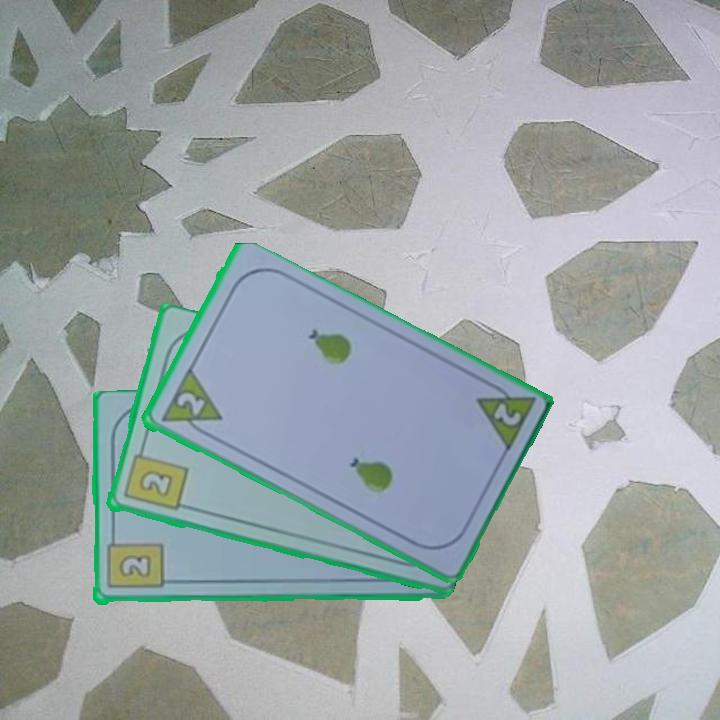2b: (119, 442, 190, 514), (103, 531, 165, 592)
2p: (156, 366, 224, 442), (488, 399, 524, 430)
